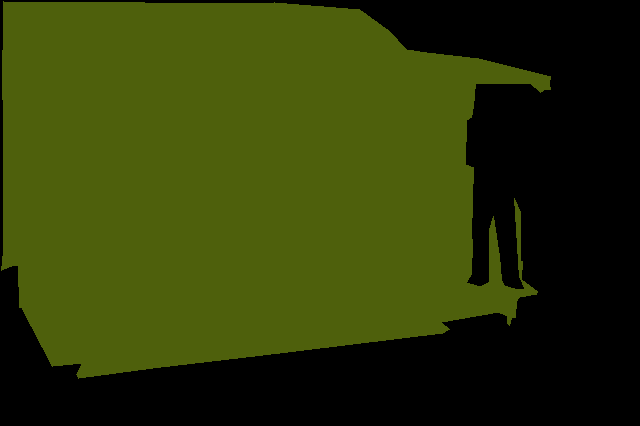Train: (1, 1, 550, 378)
